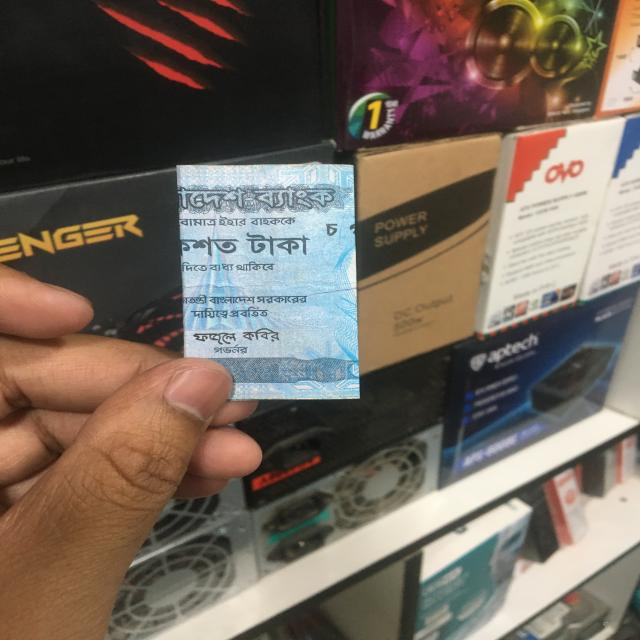Taka: (175, 162, 363, 402)
